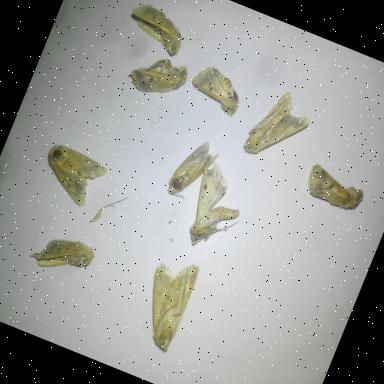abw: (171, 154, 259, 262), (124, 246, 207, 358), (237, 80, 319, 174), (30, 136, 112, 215), (160, 128, 226, 212), (23, 220, 101, 286), (294, 154, 372, 220), (120, 43, 193, 109), (181, 55, 252, 121), (120, 0, 194, 61)
